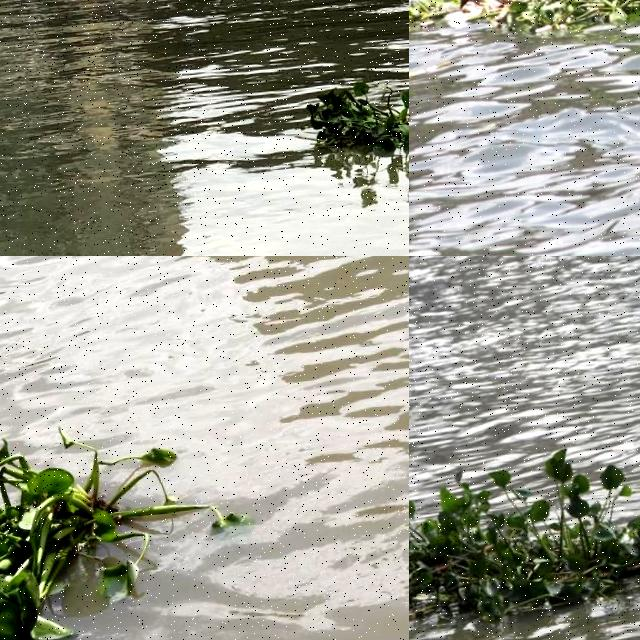water-hyacinth: (1, 411, 230, 640), (410, 446, 640, 640), (410, 1, 640, 77), (301, 50, 410, 169)
